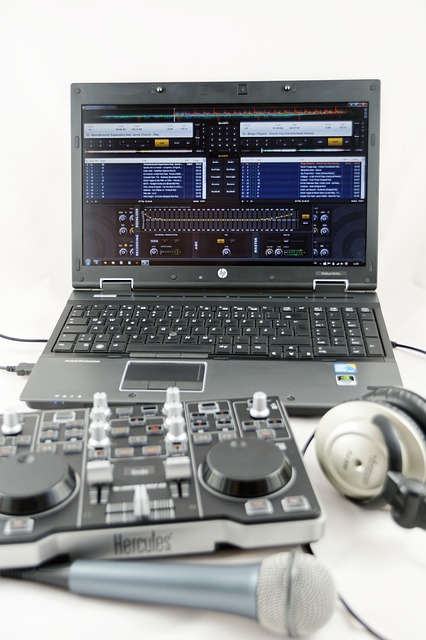headphones: (316, 387, 426, 532)
